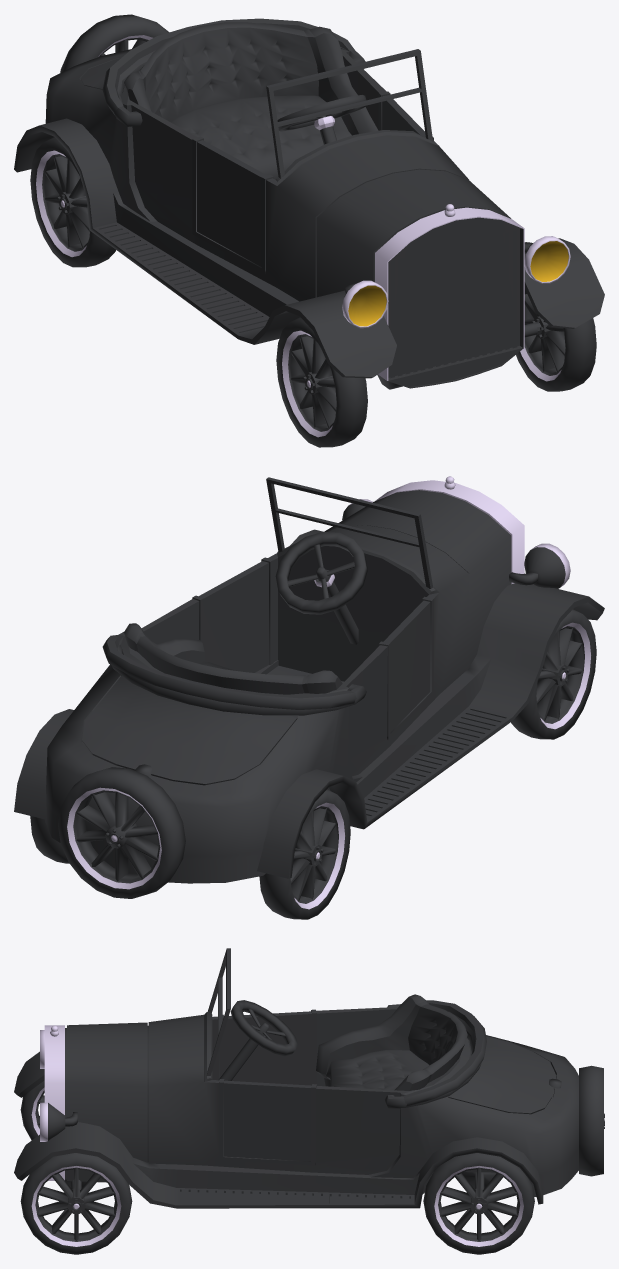
File: Car_4.fbx
3 renders of one model, top to bottom at view 1: azimuth 30°, elevation 25°; view 2: azimuth 150°, elevation 25°; view 3: azimuth 270°, elevation 25°, orthographic. The views are drawn at different scales.
Parts seen in each view (by area): view 1: 4_Car_BaseModel, 4_Car_FrontRight, 4_Car_BackRight, 4_Car_FrontLeft; view 2: 4_Car_BaseModel, 4_Car_BackRight, 4_Car_FrontRight, 4_Car_BackLeft; view 3: 4_Car_BaseModel, 4_Car_BackLeft, 4_Car_FrontLeft, 4_Car_FrontRight.
Boxes of the visible parts, box(x1,y1,x2,y2) form: 4_Car_BaseModel: box(14, 14, 604, 389); 4_Car_FrontRight: box(276, 317, 367, 447); 4_Car_BackRight: box(30, 137, 115, 267); 4_Car_FrontLeft: box(516, 288, 596, 391); 4_Car_BaseModel: box(14, 476, 604, 898); 4_Car_BackRight: box(259, 789, 350, 919); 4_Car_FrontRight: box(511, 609, 596, 739); 4_Car_BackLeft: box(30, 816, 69, 863); 4_Car_BaseModel: box(14, 948, 604, 1208); 4_Car_BackLeft: box(423, 1153, 534, 1254); 4_Car_FrontLeft: box(20, 1153, 132, 1254); 4_Car_FrontRight: box(20, 1080, 44, 1140).
Size of the model in its own units: 202 by 195 by 460.
